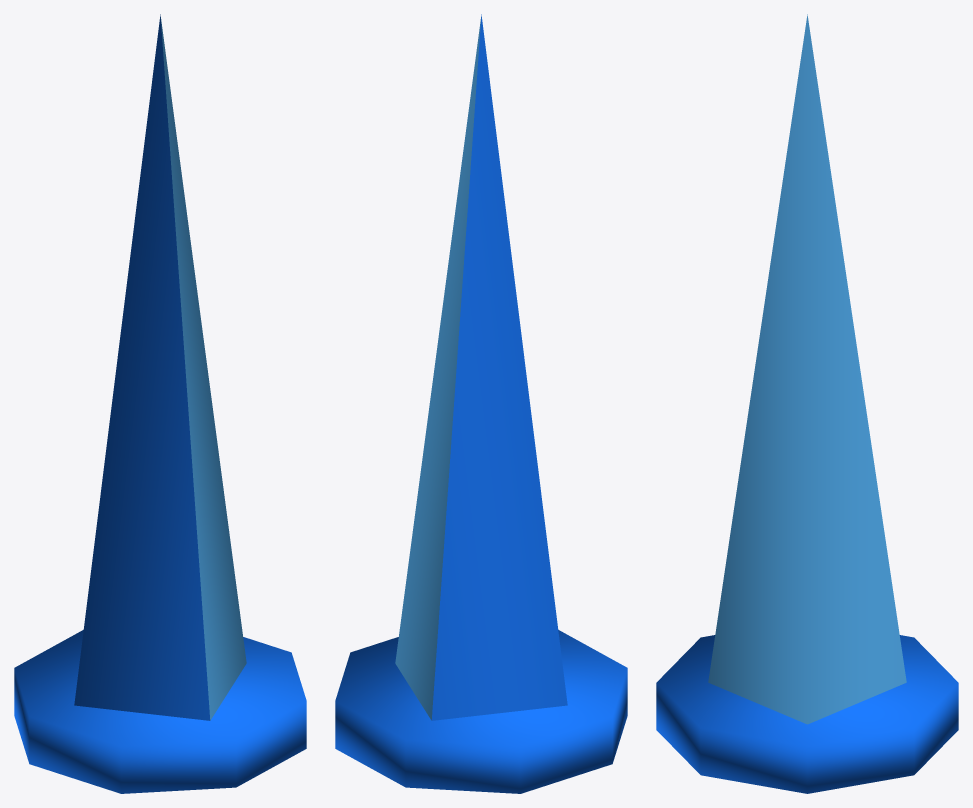
Rendered from Gimmick_03.fbx.
3 views of the same model, side by side, from view 1: azimuth 30°, elevation 25°; view 2: azimuth 150°, elevation 25°; view 3: azimuth 270°, elevation 25° (orthographic).
Parts seen in each view (by area): view 1: Gimmick_03; view 2: Gimmick_03; view 3: Gimmick_03.
Part boxes in pixels (<box>): Gimmick_03: <box>14,14,306,793</box>; Gimmick_03: <box>335,14,627,793</box>; Gimmick_03: <box>656,14,958,793</box>.
Bounding box in the file's own units: 2.42 × 6.32 × 2.42.
